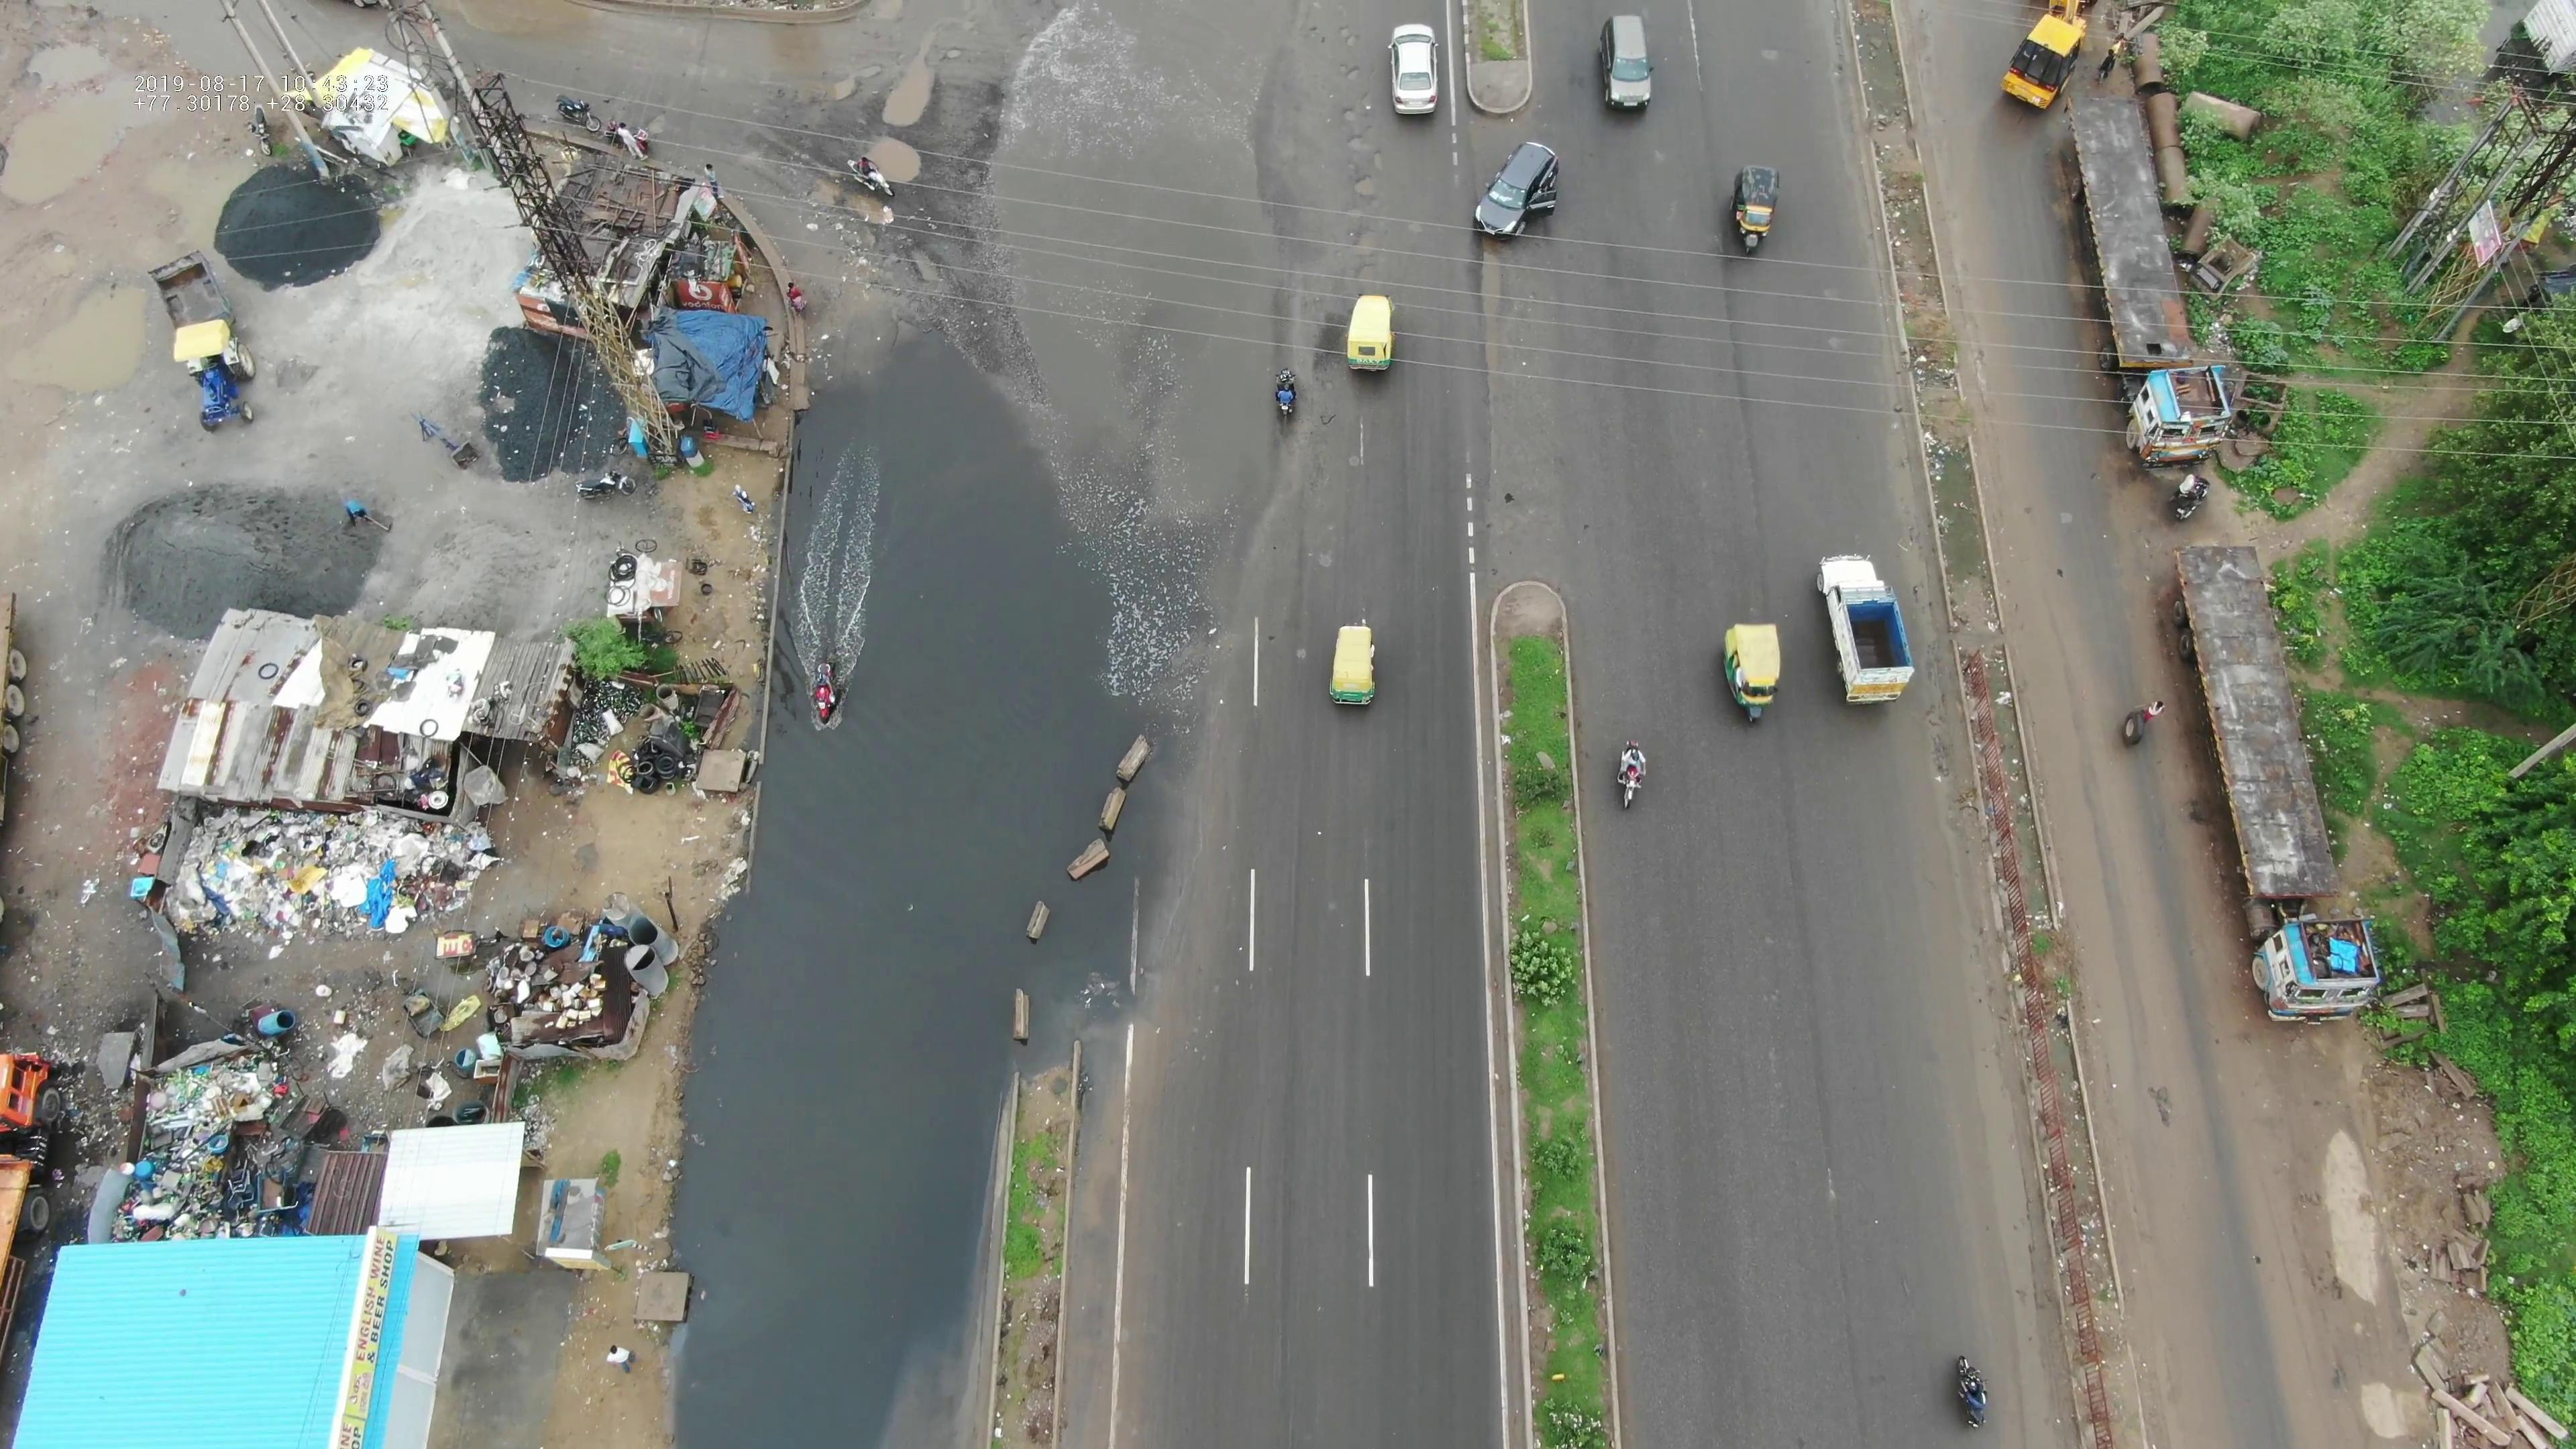Potholes: (821, 44, 934, 255), (1332, 27, 1394, 272), (1725, 21, 1810, 81), (1645, 133, 1702, 186)
Waterlogging: (653, 384, 1173, 1428), (955, 32, 1315, 400)
